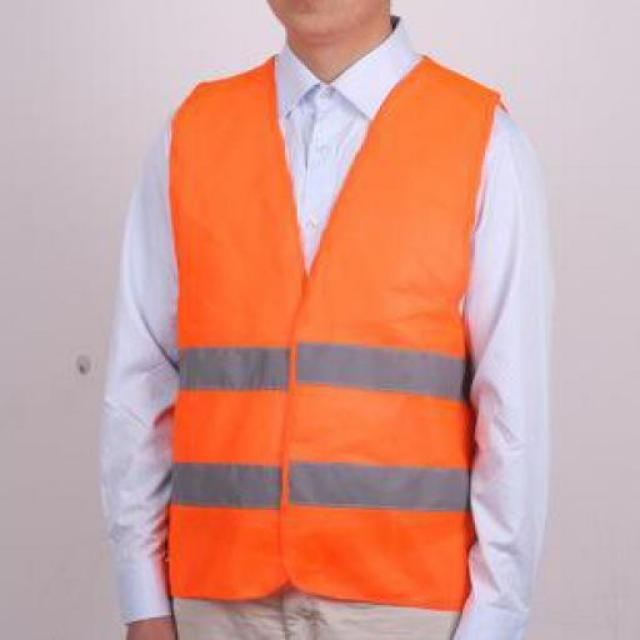vest: (170, 61, 480, 599)
